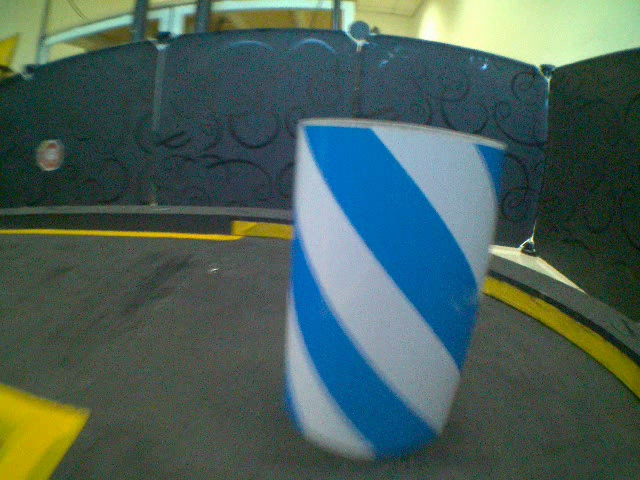bucket: (275, 116, 506, 461)
